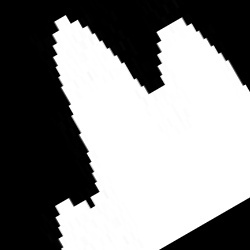spot: (52, 17, 249, 249)
